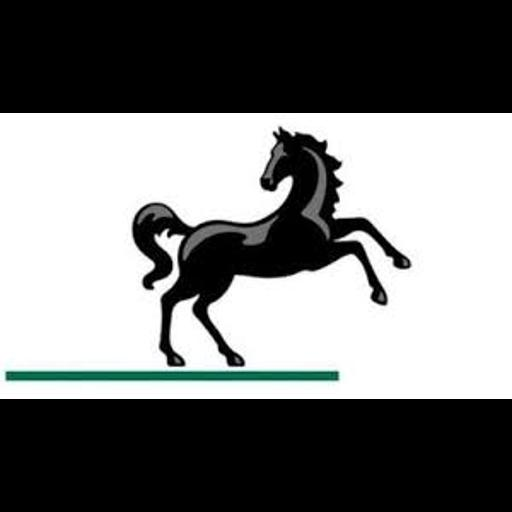Lloyds TSB Group: (0, 113, 512, 399)
